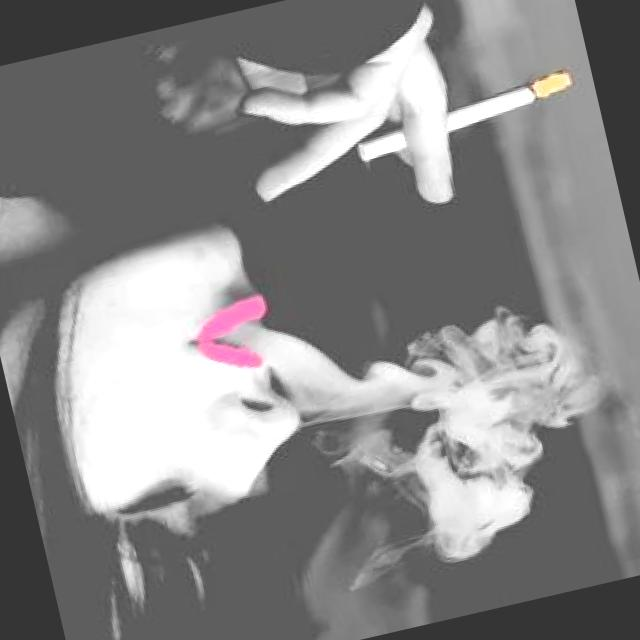cigarette: (346, 62, 590, 172)
